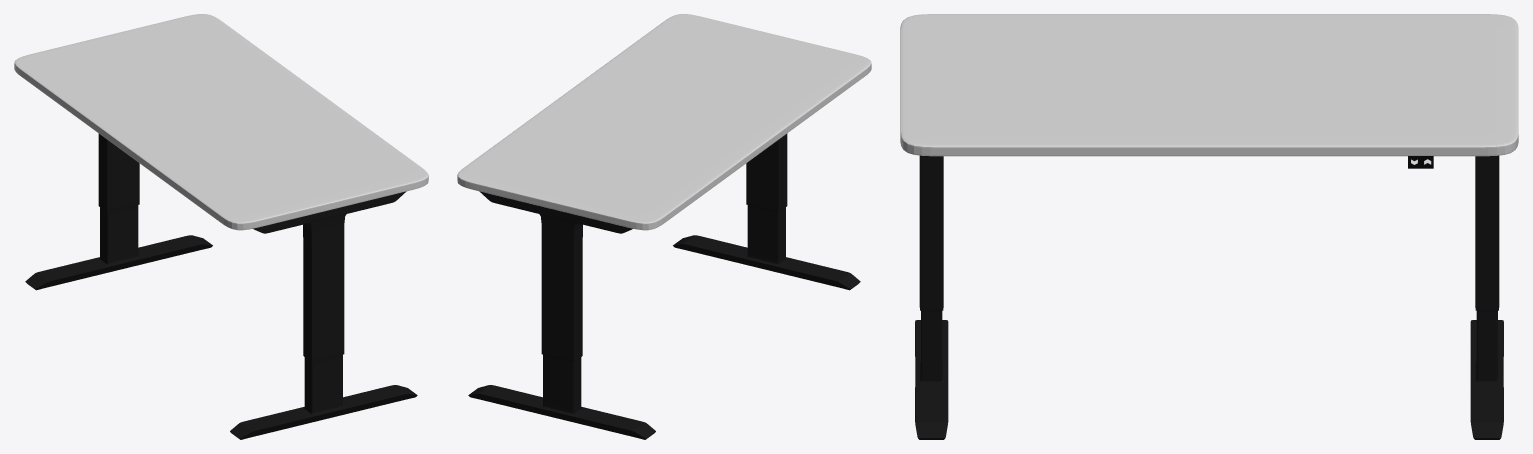
The model's file is standing desk 2 white top.glb.
3 views of the same model, side by side, from view 1: azimuth 30°, elevation 25°; view 2: azimuth 150°, elevation 25°; view 3: azimuth 270°, elevation 25° (orthographic). The views are drawn at different scales.
Parts seen in each view (by area): view 1: Plane; view 2: Plane; view 3: Plane.
Part boxes in pixels (bbox=[...]): Plane: bbox=[14, 14, 428, 439]; Plane: bbox=[457, 14, 871, 439]; Plane: bbox=[900, 14, 1518, 439].
Bounding box in the file's own units: 28.39 × 29.65 × 55.
Materials: 4 (1 with a texture image).
